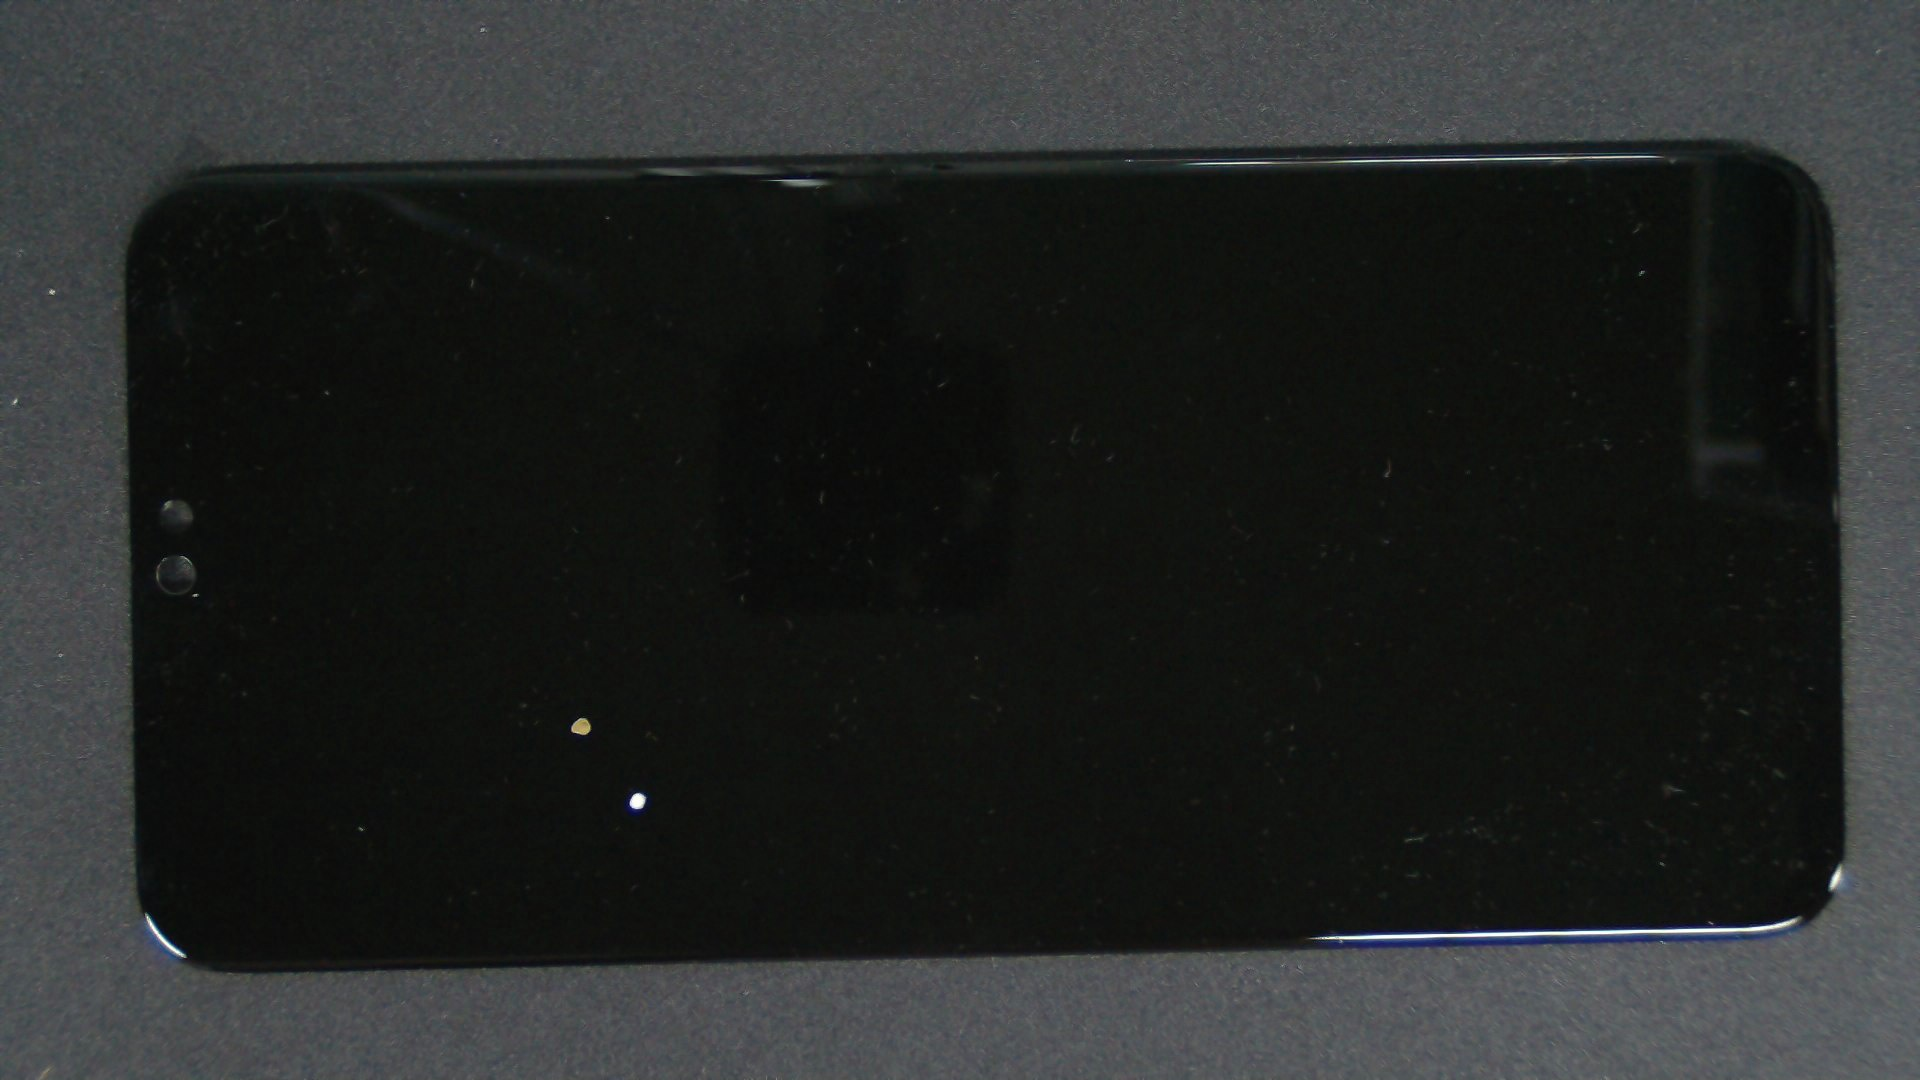oil: (319, 396, 953, 1080), (290, 357, 868, 1076)
